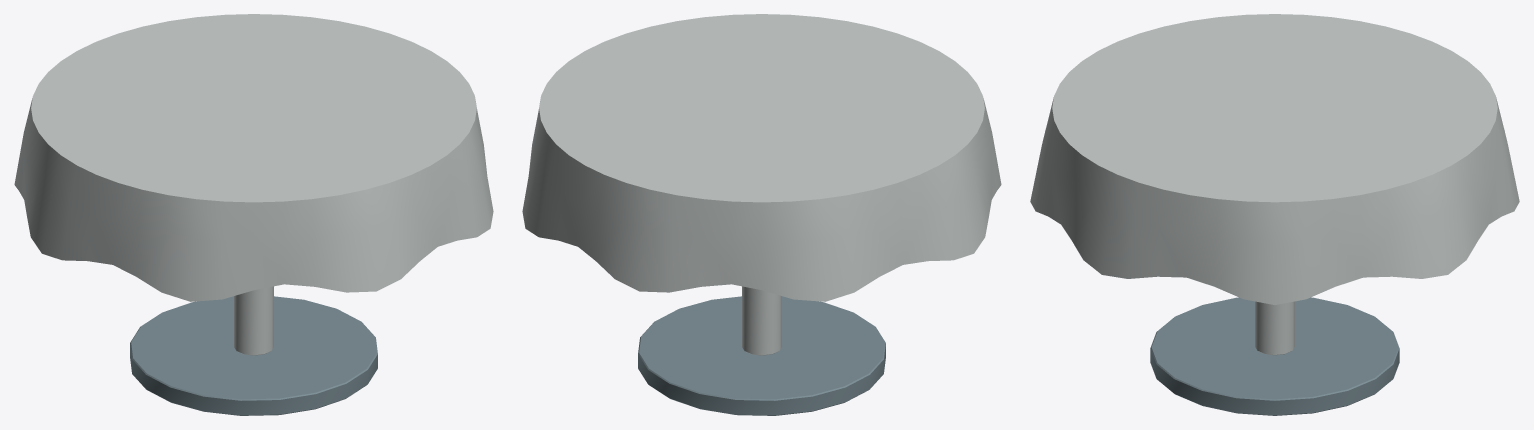
File: round-table.glb
3 renders of one model, left to right at view 1: azimuth 30°, elevation 25°; view 2: azimuth 150°, elevation 25°; view 3: azimuth 270°, elevation 25°, orthographic.
Parts seen in each view (by area): view 1: draped_tablecloth, table_base, pedestal; view 2: draped_tablecloth, table_base, pedestal; view 3: draped_tablecloth, table_base, pedestal.
Boxes of the visible parts, x1,y1,x2,y2 form: draped_tablecloth: (14, 14, 493, 301); table_base: (130, 296, 377, 415); pedestal: (234, 286, 273, 355); draped_tablecloth: (522, 14, 1001, 301); table_base: (638, 296, 885, 415); pedestal: (742, 286, 781, 355); draped_tablecloth: (1030, 14, 1519, 304); table_base: (1150, 297, 1399, 415); pedestal: (1255, 301, 1294, 355).
Size of the model in its own units: 1.34 by 0.77 by 1.34.
